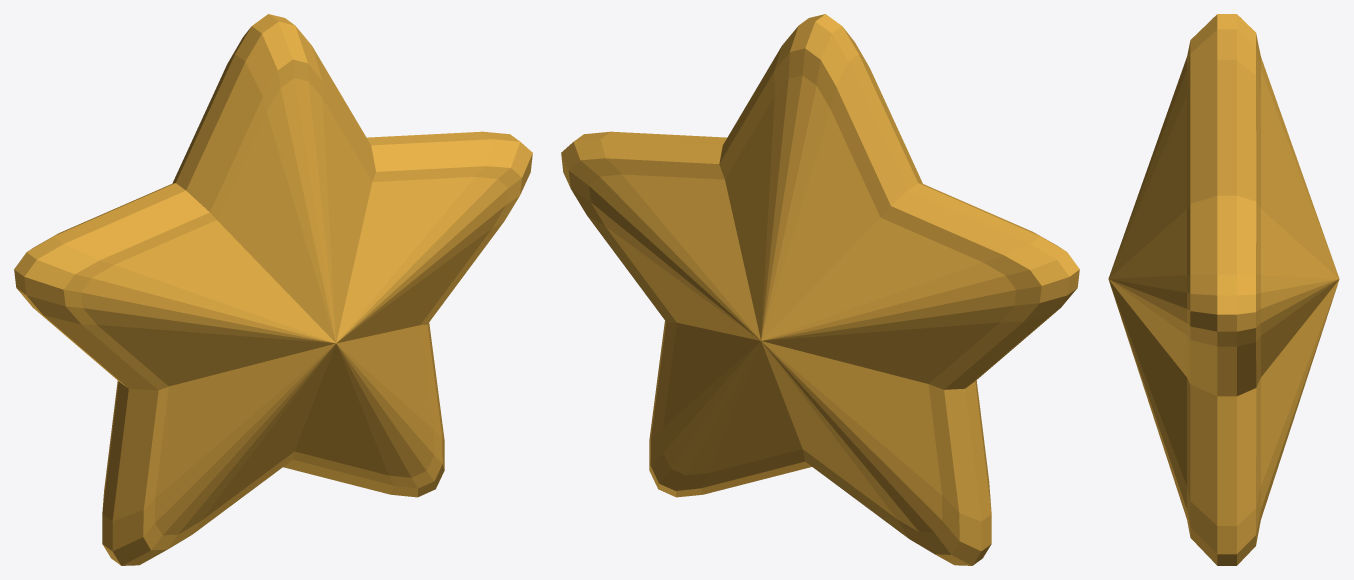
The model's file is 22 Mini Golden Star.glb.
3 views of the same model, side by side, from view 1: azimuth 30°, elevation 25°; view 2: azimuth 150°, elevation 25°; view 3: azimuth 270°, elevation 25° (orthographic). The views are drawn at different scales.
Visible parts, largest first — view 1: Rounded thick faceted five point star; view 2: Rounded thick faceted five point star; view 3: Rounded thick faceted five point star.
Boxes of the visible parts, x1,y1,x2,y2 form: Rounded thick faceted five point star: [14, 14, 532, 565]; Rounded thick faceted five point star: [561, 14, 1079, 565]; Rounded thick faceted five point star: [1108, 14, 1339, 565].
Size of the model in its own units: 4.52 by 4.33 by 1.88.
